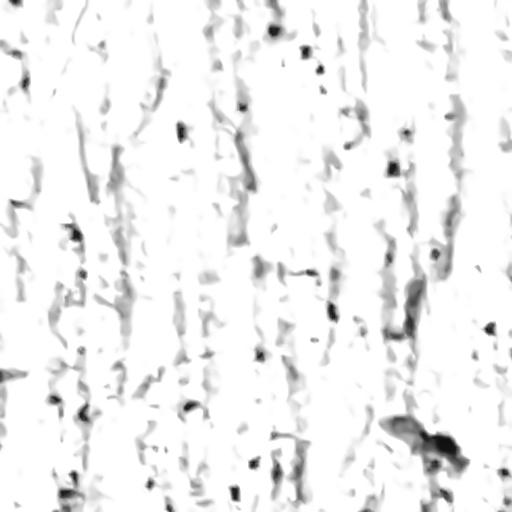egg: (380, 122, 422, 190), (45, 389, 99, 427), (64, 224, 94, 282), (9, 47, 32, 97), (316, 296, 348, 330), (296, 46, 330, 76), (60, 467, 86, 505), (244, 458, 297, 476), (173, 396, 209, 418), (220, 478, 246, 506), (471, 322, 508, 340), (169, 120, 194, 146), (440, 488, 452, 503)
